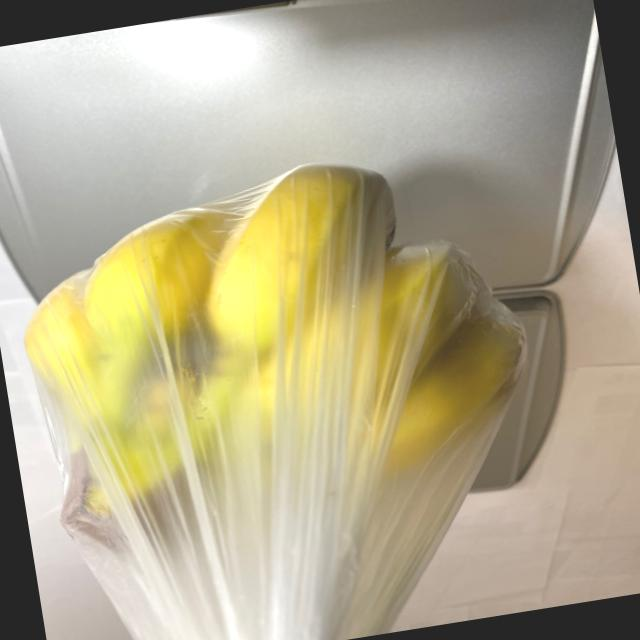banana: (3, 132, 571, 592)
